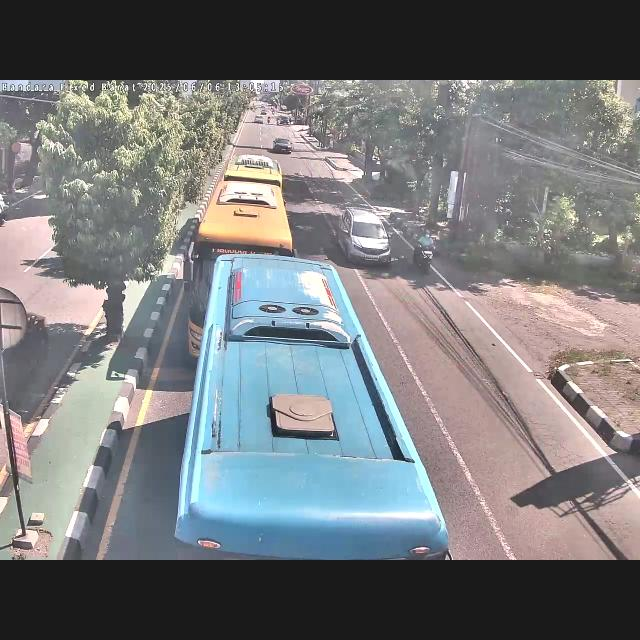Bis: (186, 252, 458, 560), (190, 180, 296, 360), (220, 152, 282, 254)
Mobil: (336, 204, 396, 272)
Motor: (413, 226, 441, 274)
